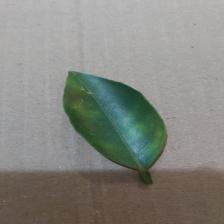greening: (65, 78, 166, 164)
